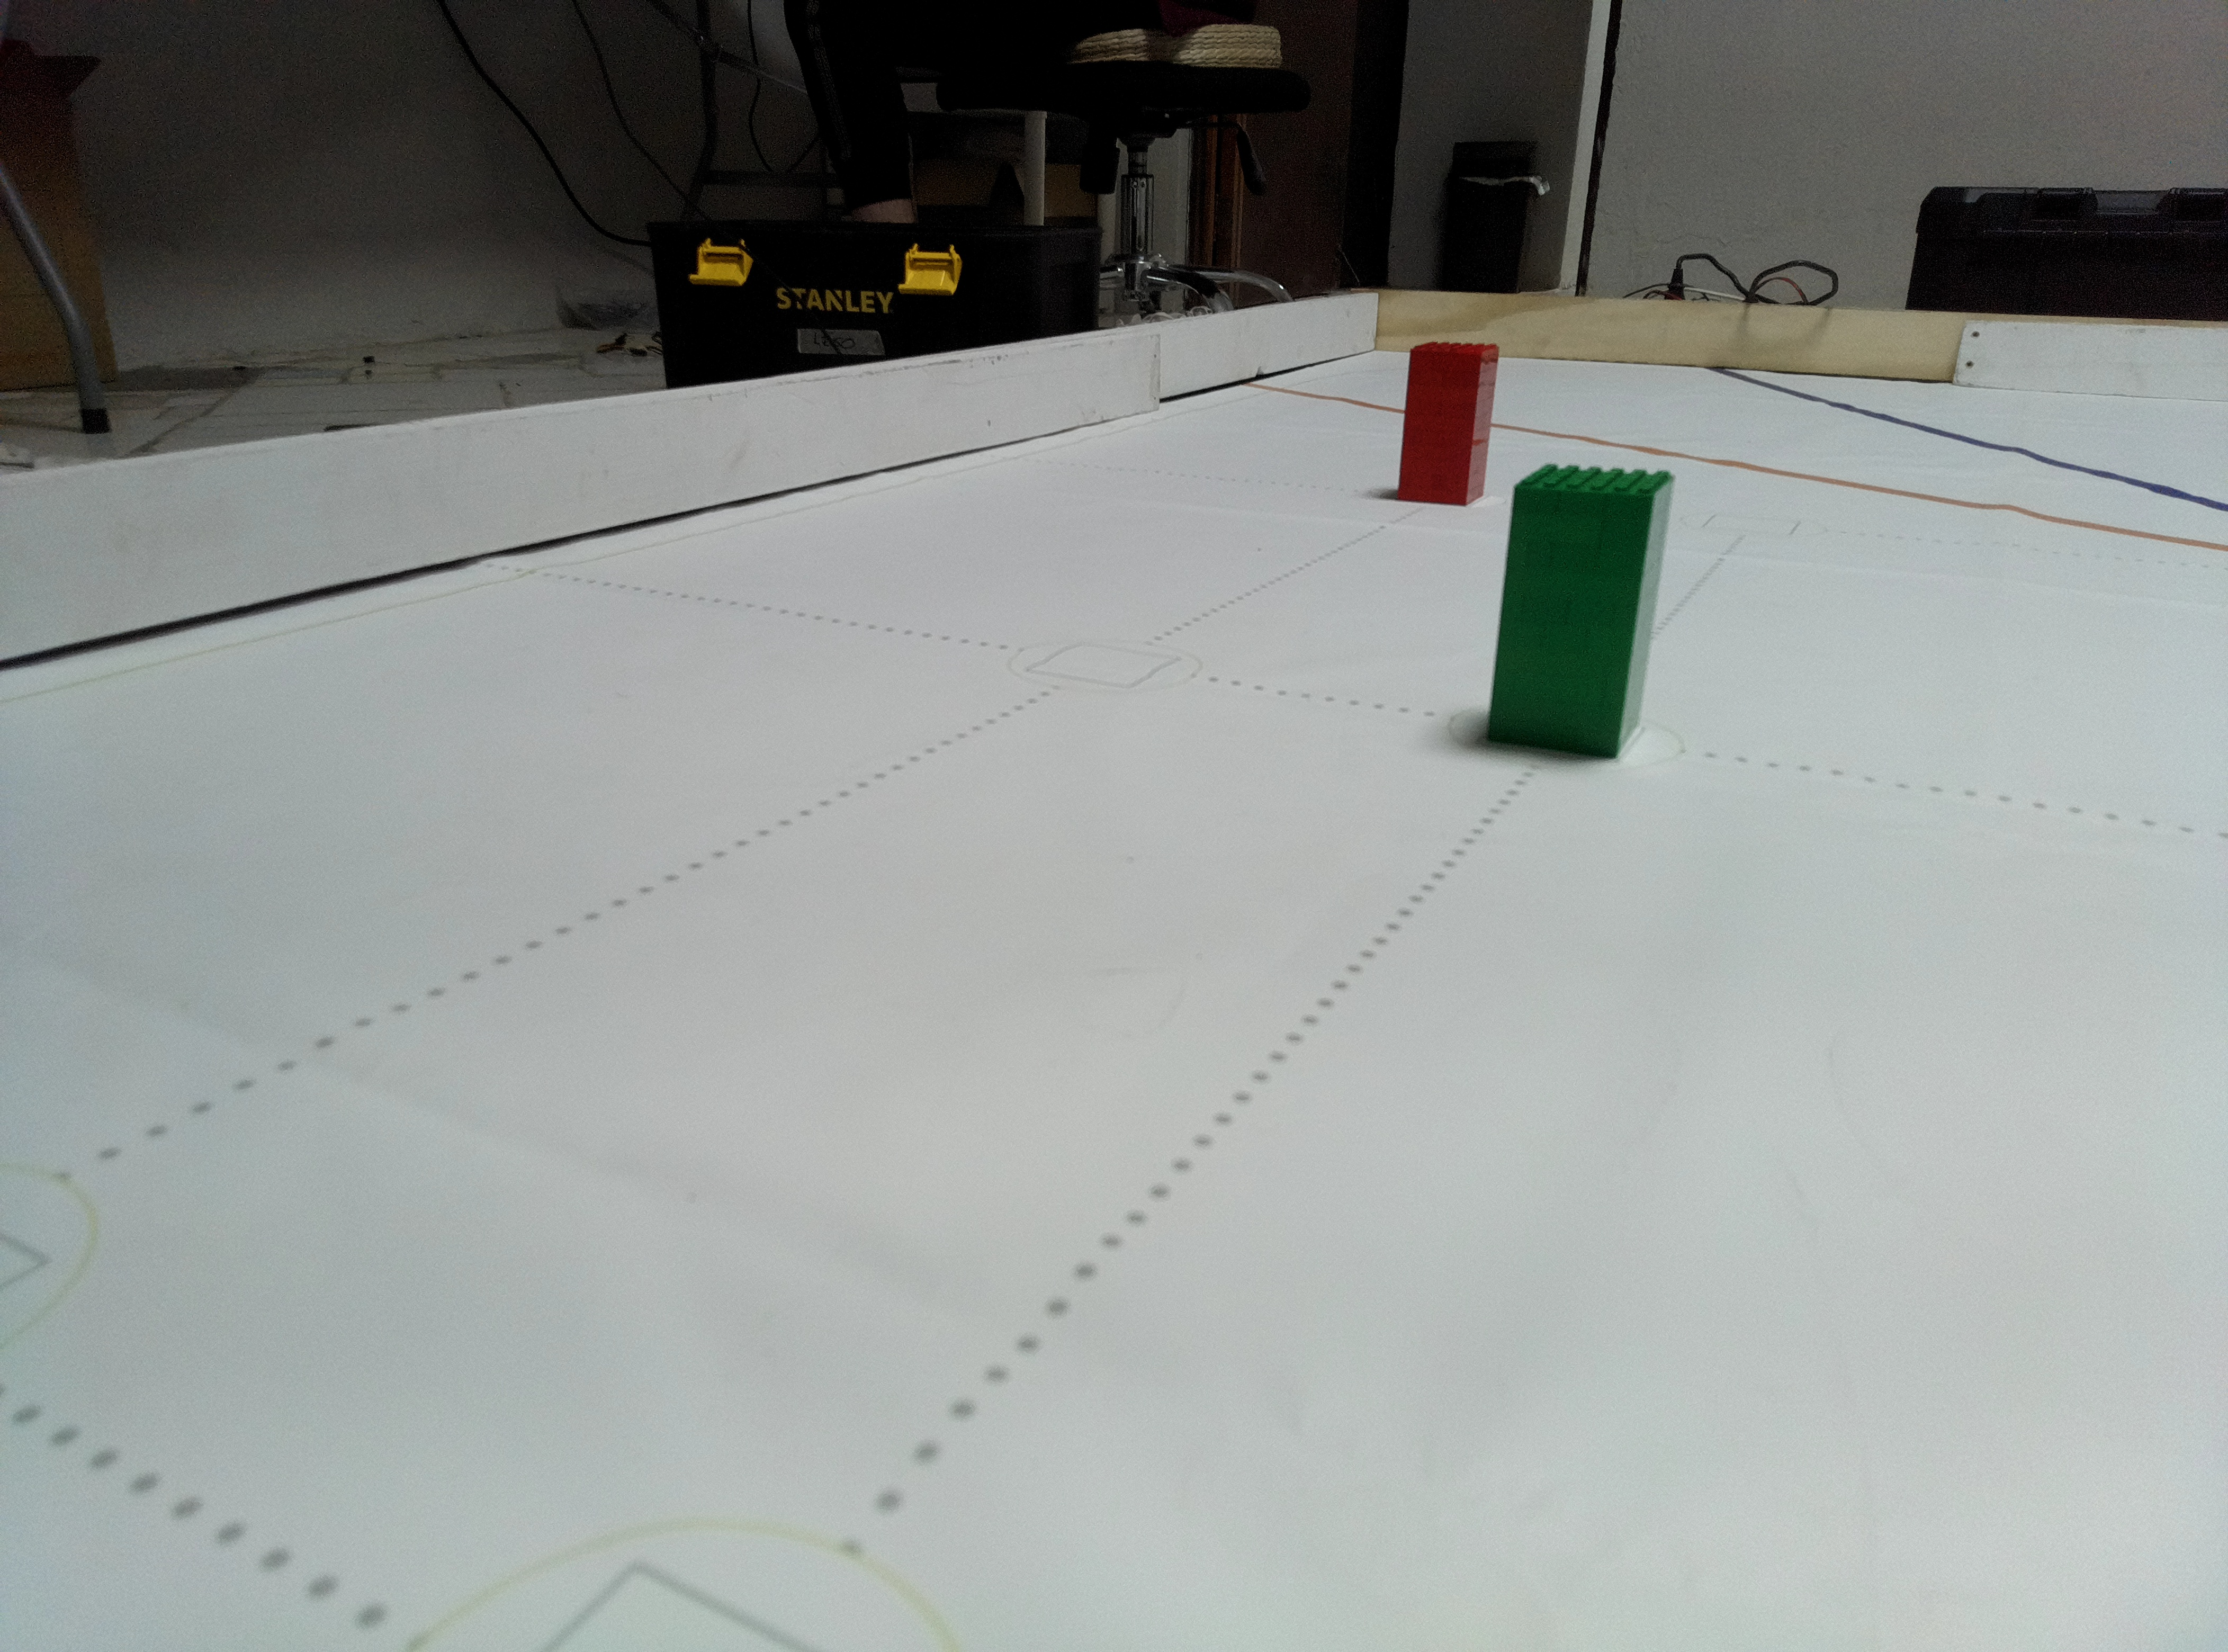greenbox: (1484, 463, 1685, 760)
redbox: (1397, 340, 1504, 507)
